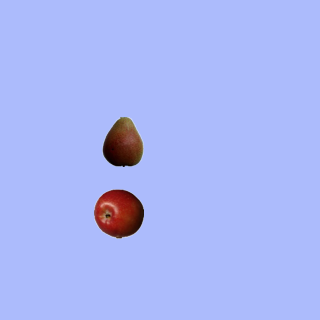Apple Braeburn: (93, 188, 143, 238)
Pear Forelle: (97, 116, 147, 166)
